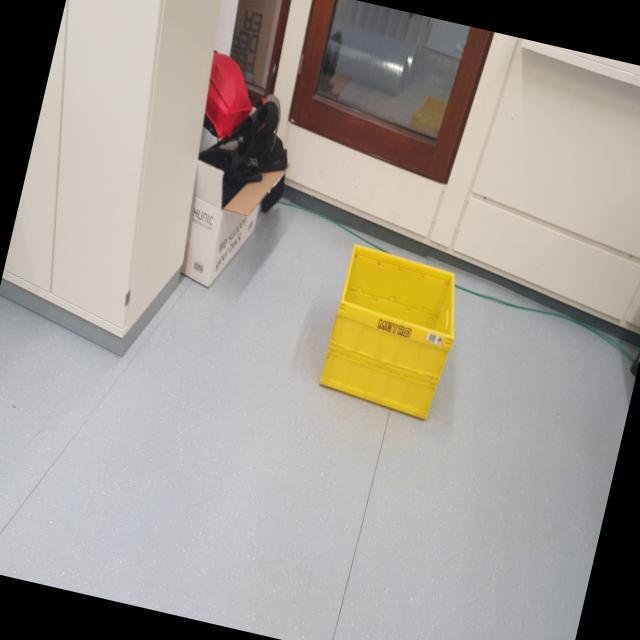box: (298, 221, 480, 450)
